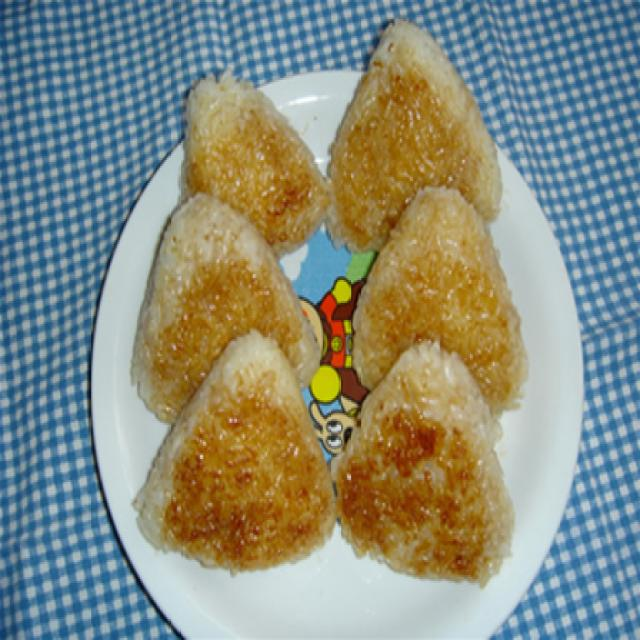米饭主食: (131, 320, 336, 581), (124, 181, 326, 432), (330, 332, 516, 588), (346, 171, 530, 423), (320, 6, 500, 255), (175, 55, 332, 261)
